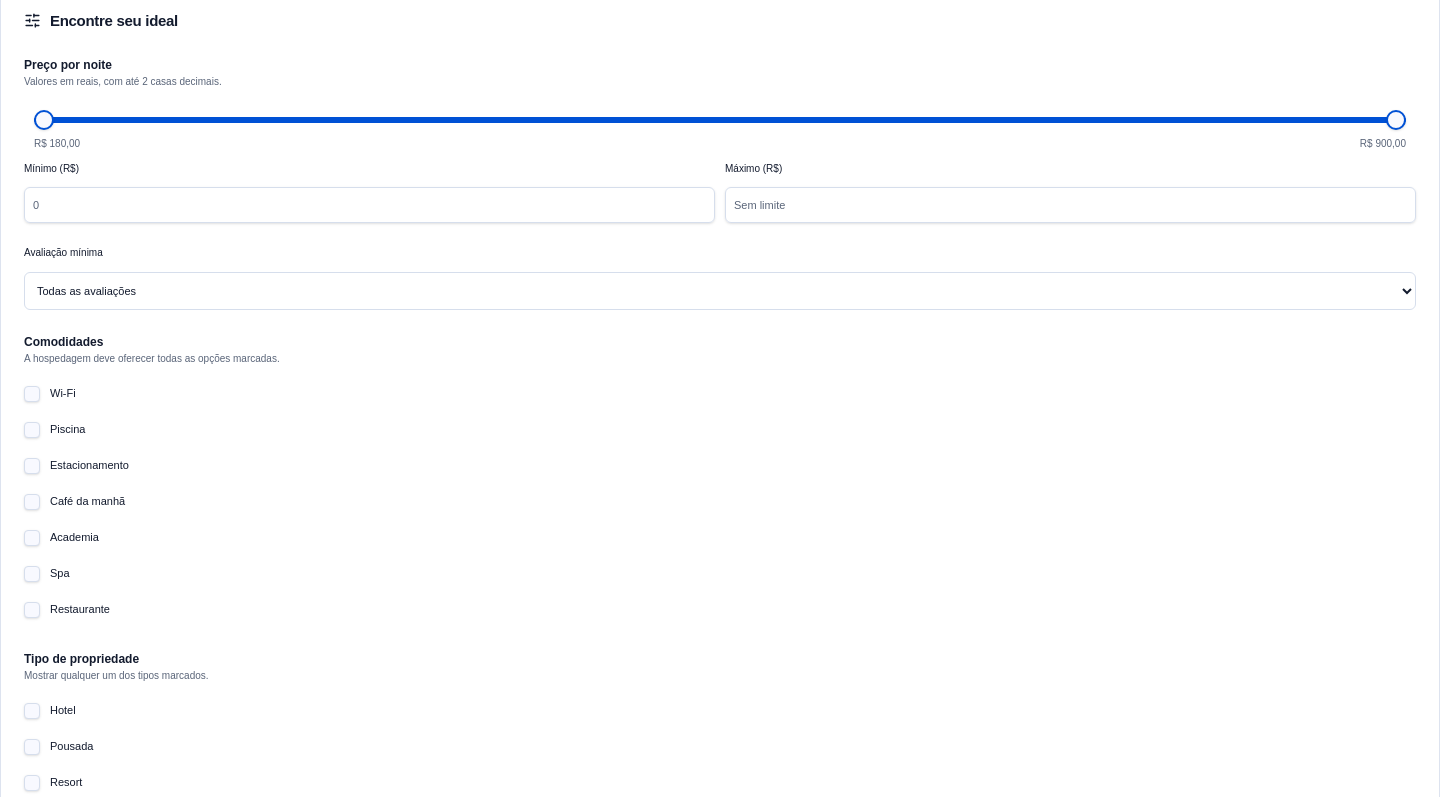
Test case: edita seleções sem aplicar e envia todos os critérios juntos
The width and height of the screenshot is (1440, 797).
Later steps or results of the test are not shown.
Click the checkbox named "Wi-Fi" next to "Wi-Fi". click: (32, 394)
box: left=24, top=386, right=40, bottom=402
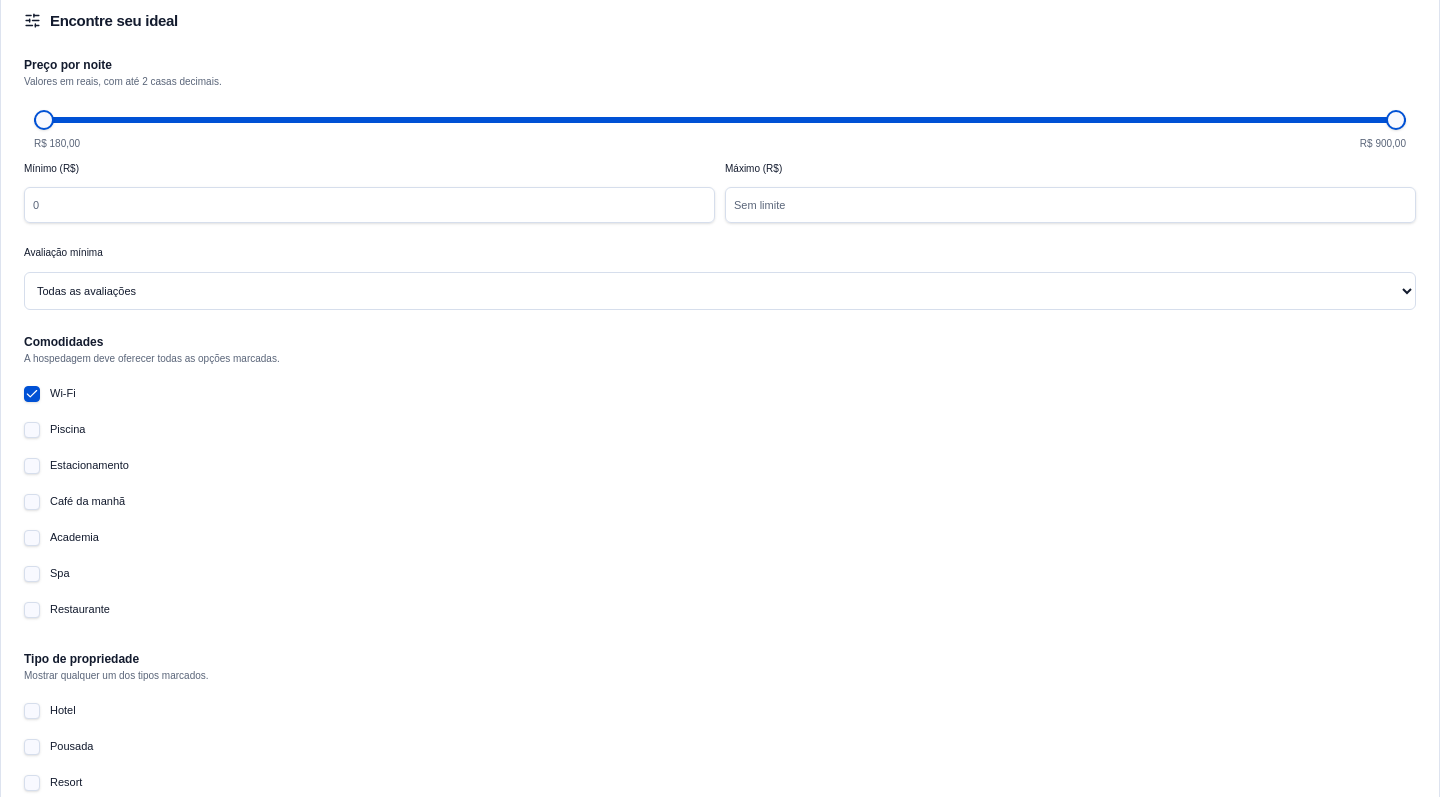
Click the checkbox named "Piscina" next to "Piscina". click: (32, 430)
box: left=24, top=422, right=40, bottom=438
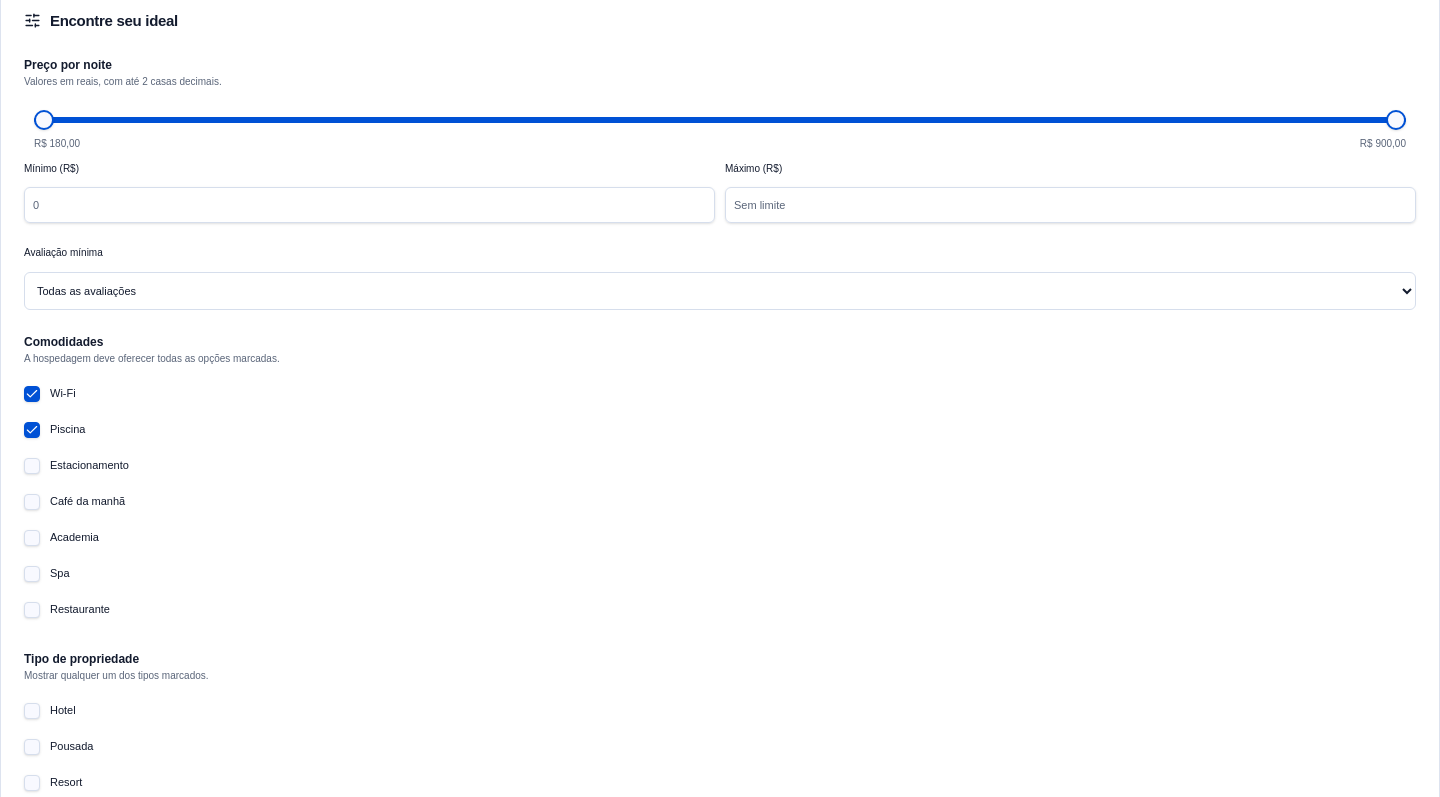
Click the checkbox named "Pousada" next to "Pousada". click: (32, 747)
box: left=24, top=739, right=40, bottom=755
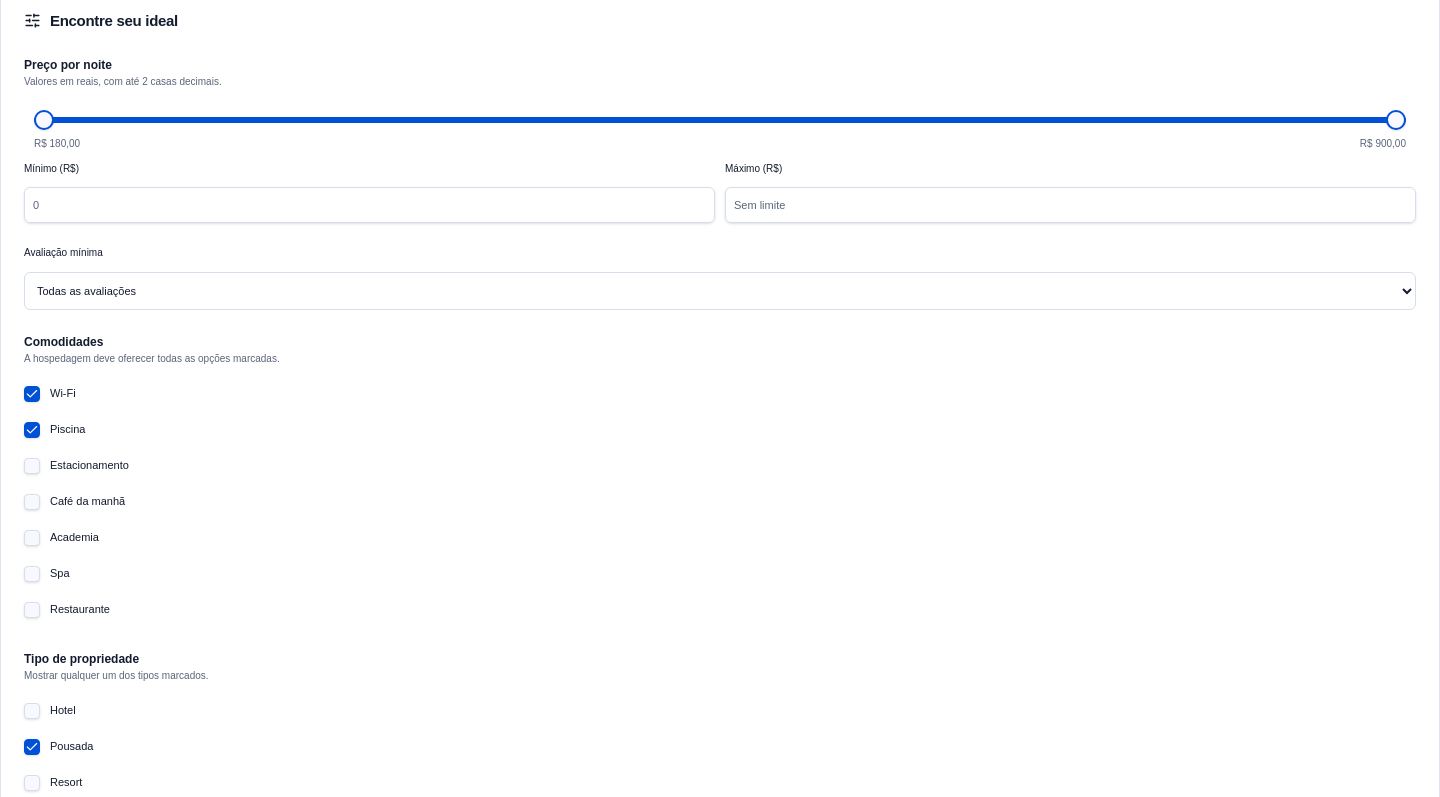
Type "200.15" into the number field labelled "Mínimo (R$)". click: (370, 205)
box: left=24, top=187, right=715, bottom=223
(page scrolled)
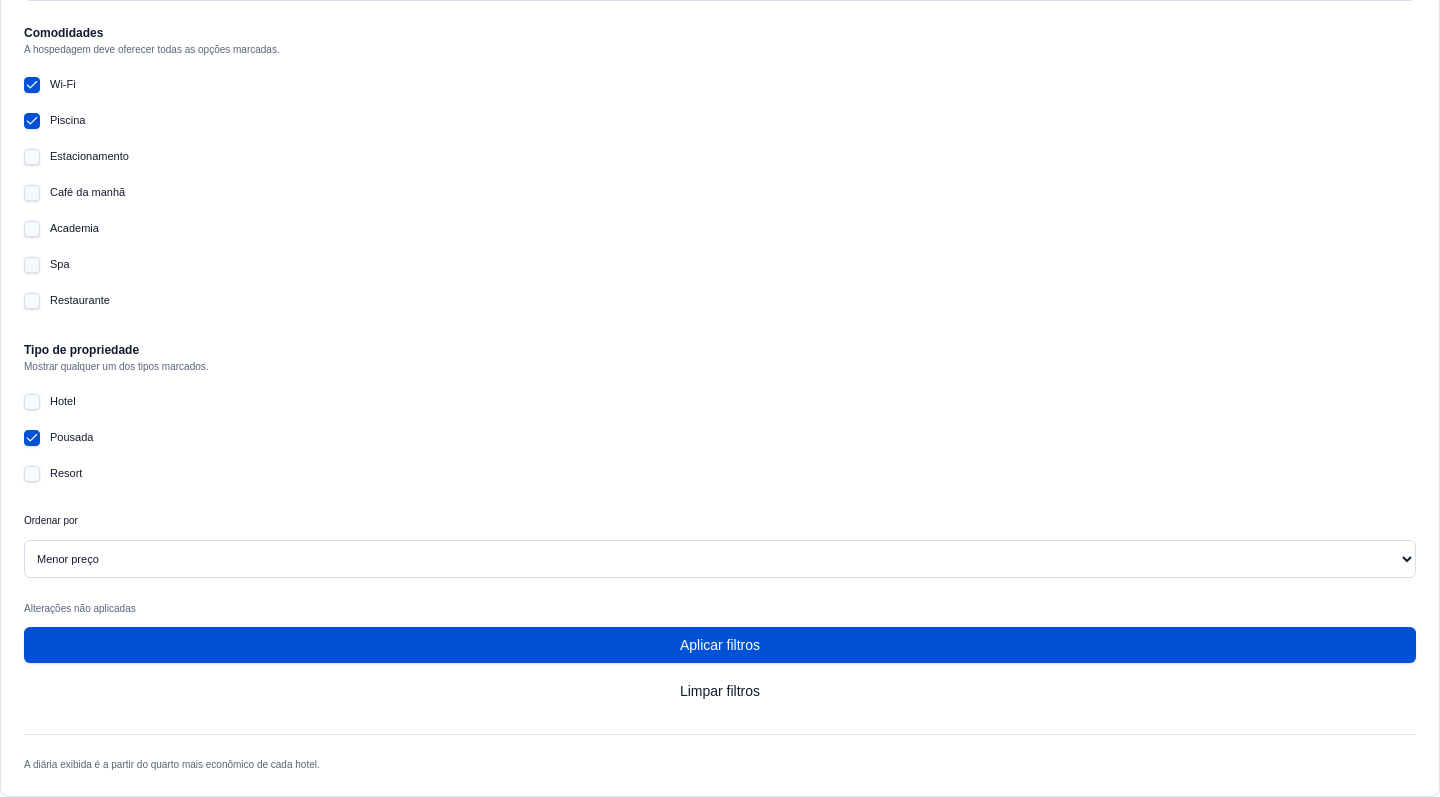
Expected: the text "Alterações não aplicadas" is shown, left=24, top=603, right=136, bottom=614
